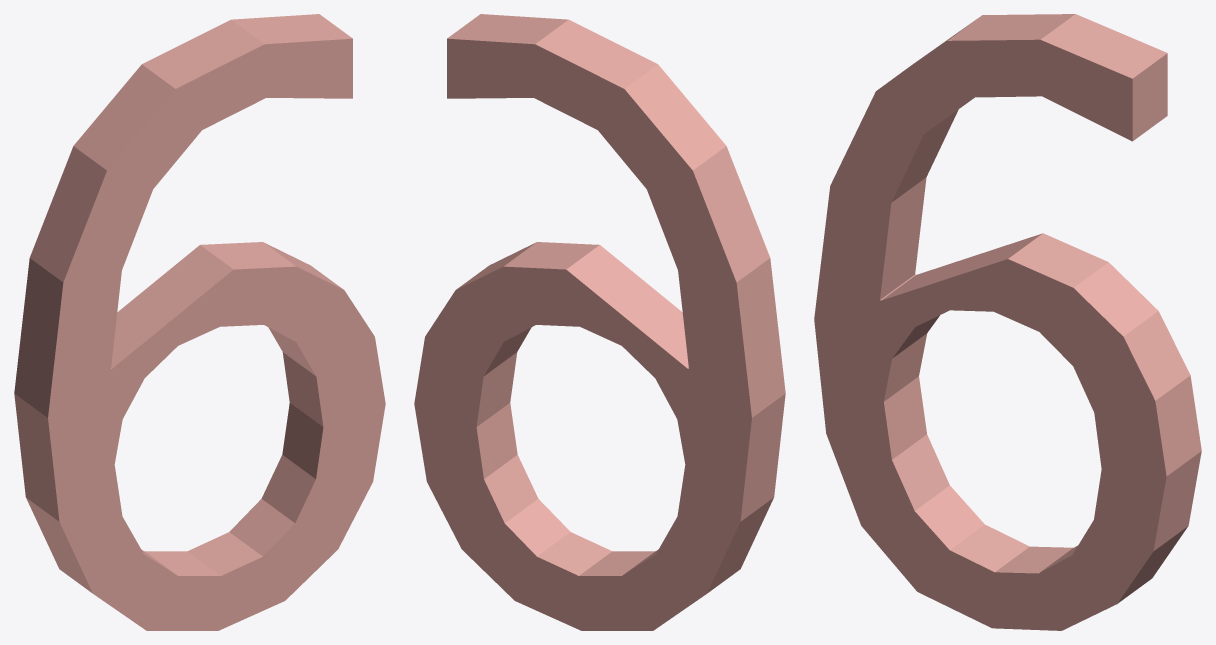
The model's file is tsifa5.fbx.
3 views of the same model, side by side, from view 1: azimuth 30°, elevation 25°; view 2: azimuth 150°, elevation 25°; view 3: azimuth 330°, elevation 25° (orthographic). The views are drawn at different scales.
Visible parts, largest first — view 1: Extrude_8; view 2: Extrude_8; view 3: Extrude_8.
Part boxes in pixels (x1=…): Extrude_8: x1=14, y1=14, x2=385, y2=630; Extrude_8: x1=414, y1=14, x2=785, y2=630; Extrude_8: x1=814, y1=14, x2=1201, y2=630.
Bounding box in the file's own units: 5.78 × 9.41 × 1.
